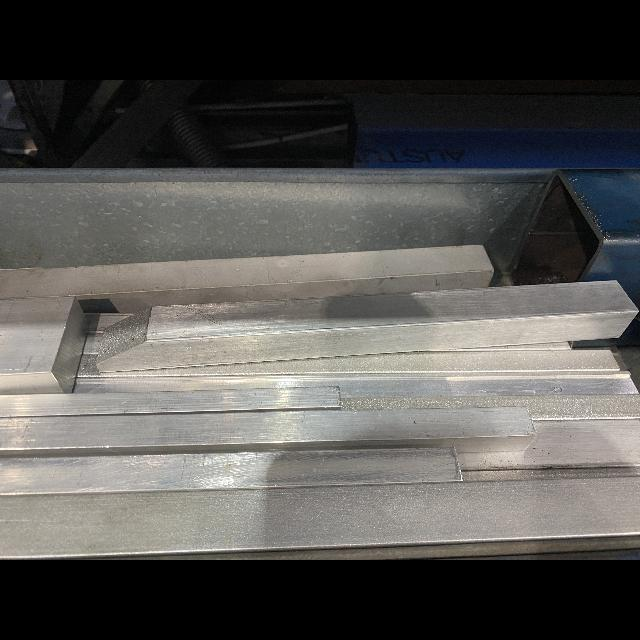Aluminium: (0, 477, 640, 560), (96, 280, 639, 373), (0, 244, 494, 314), (0, 406, 538, 457), (0, 447, 464, 496), (76, 350, 620, 377), (72, 378, 640, 397), (0, 387, 341, 417), (456, 419, 640, 471), (0, 296, 91, 394), (340, 394, 640, 421)
Ferrous Metal: (345, 94, 640, 167), (511, 169, 640, 301)
